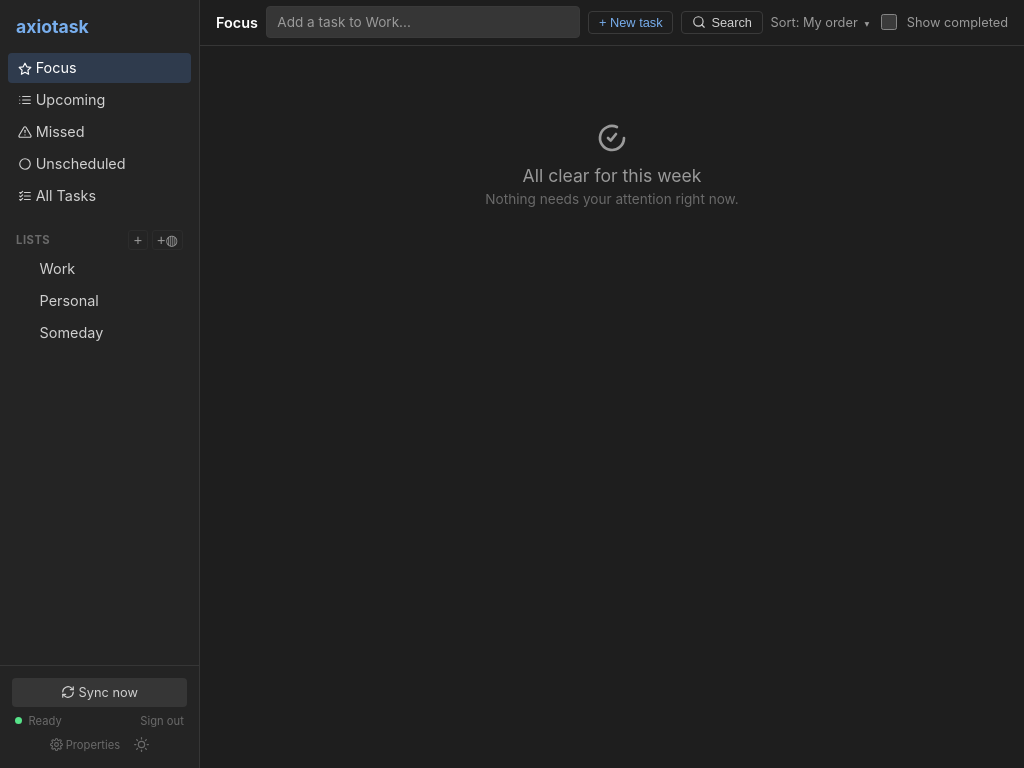
Test: GH#15: List Exclusion from Smart Views › Right-click toggle › right-click on list shows 'Exclude from smart views' option
Right-click the button "Someday".
right_click(110, 332)  # box 30,318 -> 191,347
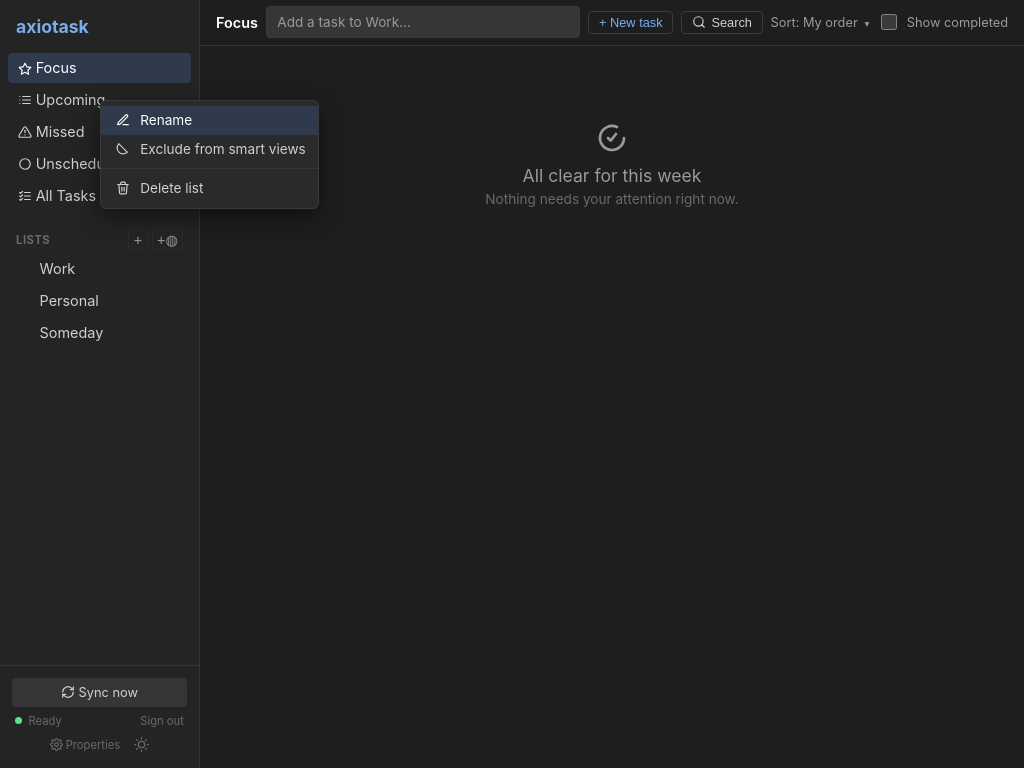
Expected: the text "Exclude from smart views" is shown, 140,141 -> 306,157
